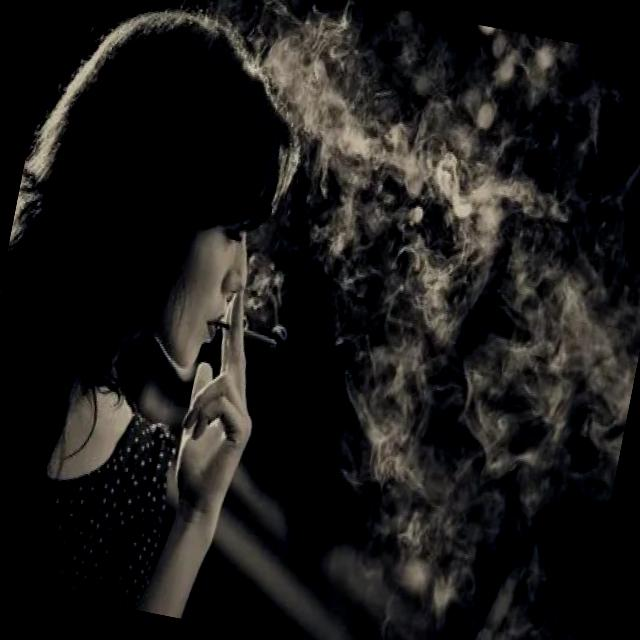cigarette: (202, 310, 281, 356)
